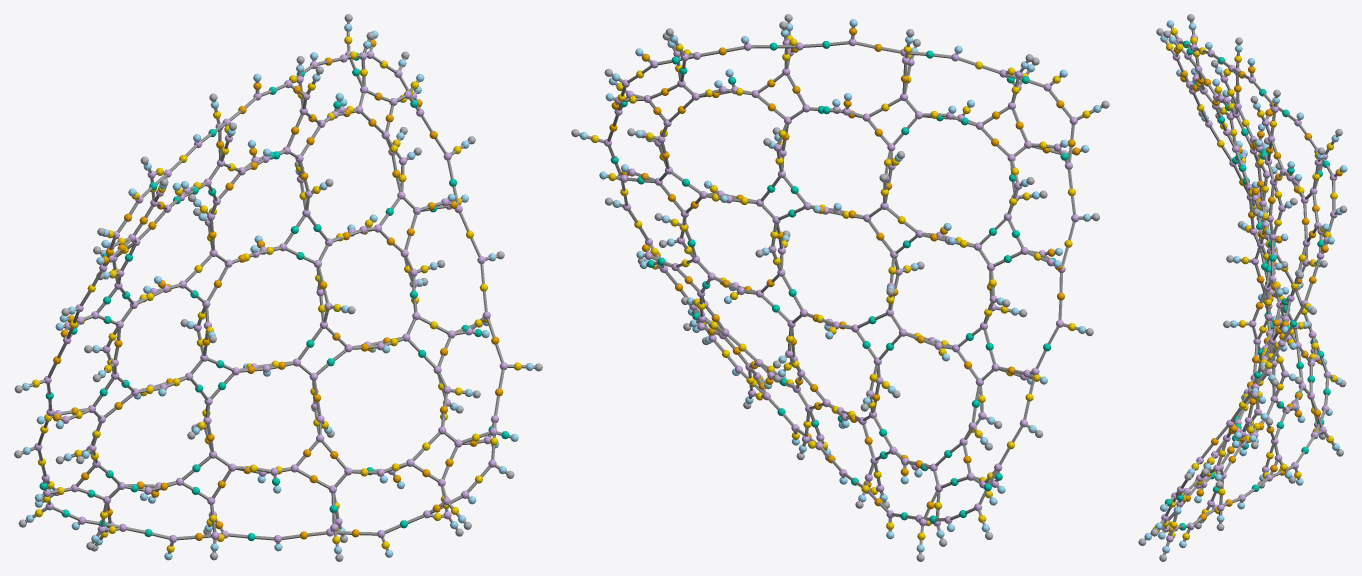
Rendered from network_L10_d8_actual.glb.
The picture shows the model from 3 angles, left to right: view 1: azimuth 30°, elevation 25°; view 2: azimuth 150°, elevation 25°; view 3: azimuth 270°, elevation 25°; orthographic projection. The views are drawn at different scales.
Parts seen in each view (by area): view 1: edges, CZ, T, H, Y_1_2, X_1_2, input; view 2: edges, CZ, T, H, Y_1_2, X_1_2, input; view 3: edges, CZ, T, H, Y_1_2, input, X_1_2.
Part boxes in pixels (left/top/right/bottom): edges: left=21, top=21, right=535, bottom=554; CZ: left=34, top=51, right=507, bottom=542; T: left=32, top=36, right=521, bottom=552; H: left=22, top=24, right=533, bottom=560; Y_1_2: left=52, top=39, right=503, bottom=540; X_1_2: left=39, top=52, right=509, bottom=541; input: left=14, top=14, right=542, bottom=561; edges: left=578, top=21, right=1102, bottom=553; CZ: left=604, top=38, right=1078, bottom=526; T: left=591, top=35, right=1090, bottom=539; H: left=580, top=19, right=1101, bottom=552; Y_1_2: left=609, top=28, right=1080, bottom=509; X_1_2: left=610, top=41, right=1068, bottom=523; input: left=571, top=14, right=1109, bottom=561; edges: left=1144, top=21, right=1341, bottom=554; CZ: left=1161, top=34, right=1337, bottom=542; T: left=1153, top=28, right=1337, bottom=540; H: left=1144, top=20, right=1347, bottom=553; Y_1_2: left=1169, top=46, right=1342, bottom=523; input: left=1138, top=14, right=1347, bottom=561; X_1_2: left=1164, top=40, right=1330, bottom=530.
Size of the model in its own units: 2.03 by 1.93 by 0.8011.
